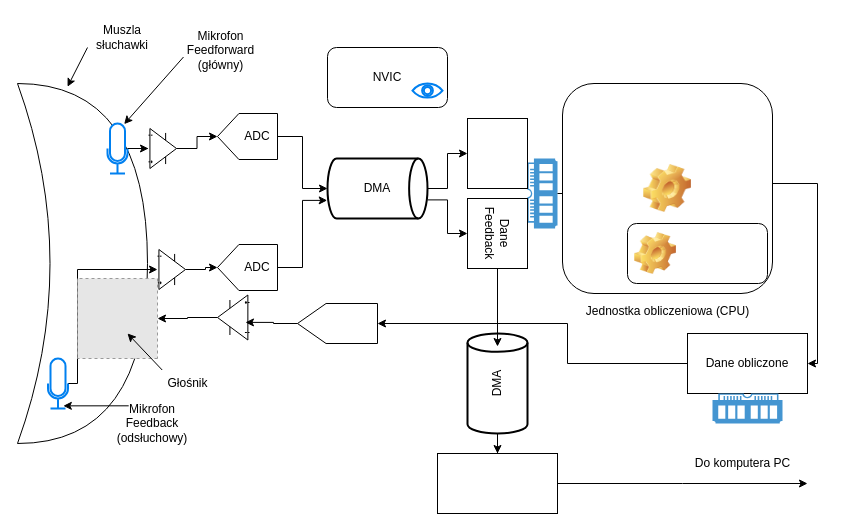
This 843x531 diagram has some shape labels left out. Grey dashed boxes stand in for pictures. Here are the shapes that lost their labels. From the top down, the centre of each, then its label:
At (497,153): "Dane Feedforward".
At (697,253): "FPU".
At (337,323): "DAC".
At (497,483): "UART_TX".
